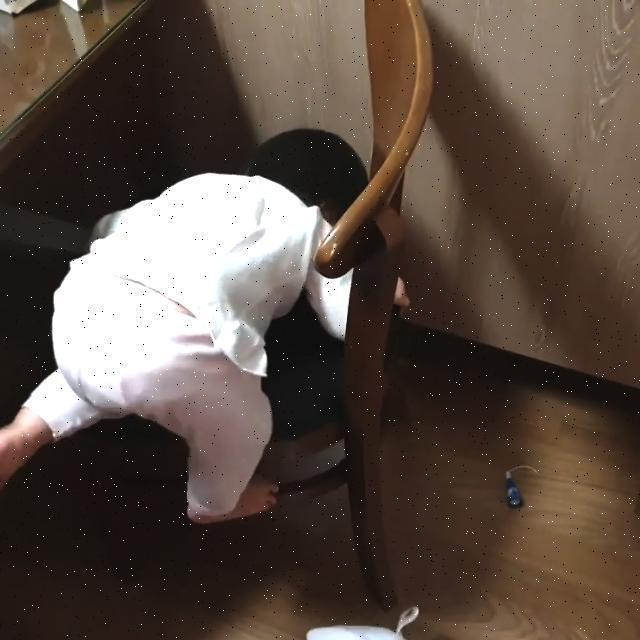child: (0, 127, 397, 530)
